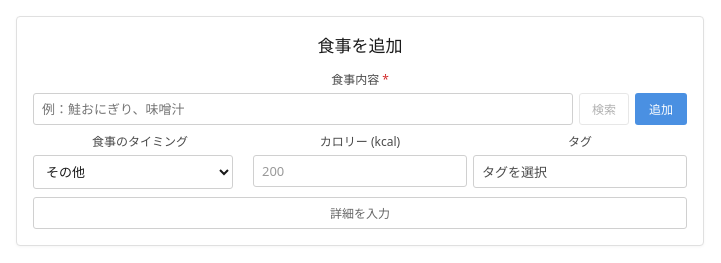
Test: MealForm › 入力内容をクリアできる
Step 1. Type "ラーメン" into the field labelled "食事内容" → (303, 109), box [33, 93, 573, 125]
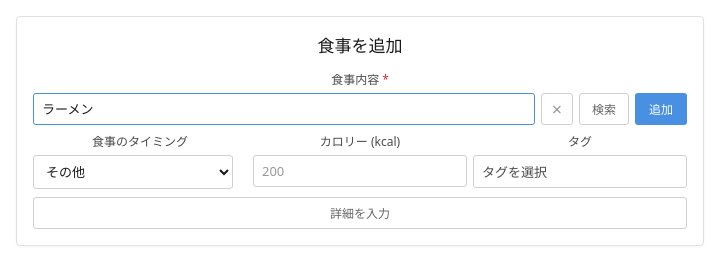
# クリアボタンが表示される
Step 2. Click the button named "入力をクリア" → (557, 109), box [541, 93, 573, 125]
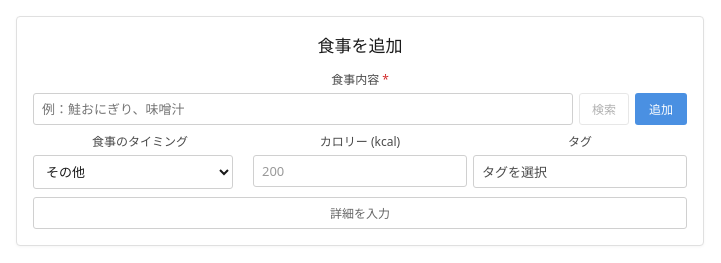
Result: the field labelled "食事内容" is empty at [33, 93, 573, 125]
